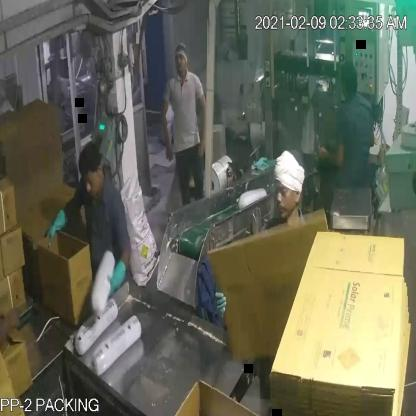glove: (103, 250, 136, 310), (41, 203, 70, 249)
no_glove: (154, 87, 179, 172), (310, 121, 346, 178), (191, 74, 213, 167), (0, 294, 26, 354)
